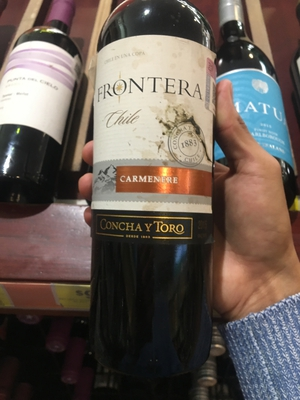frontera carmenere: (84, 8, 226, 366)
